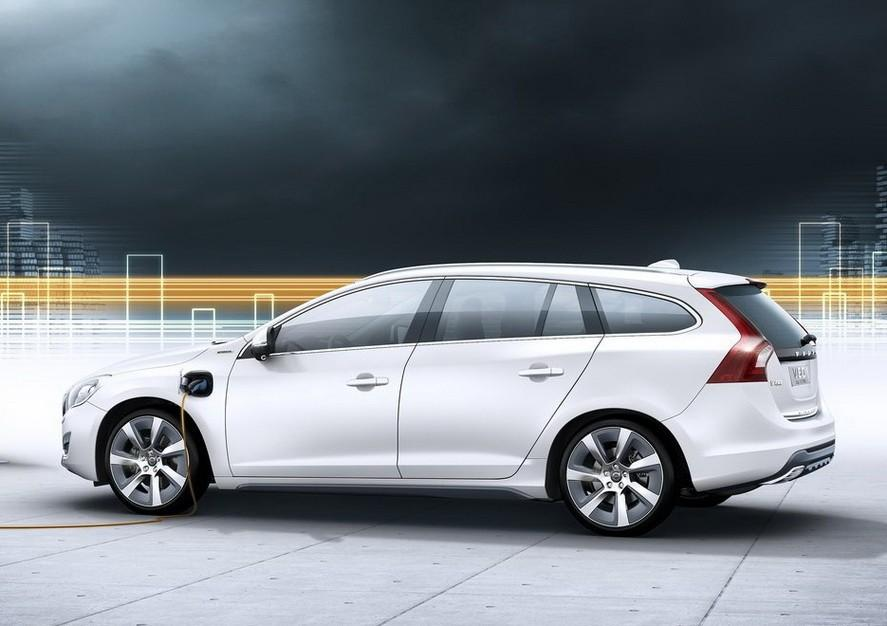Wagon: (61, 261, 837, 536)
